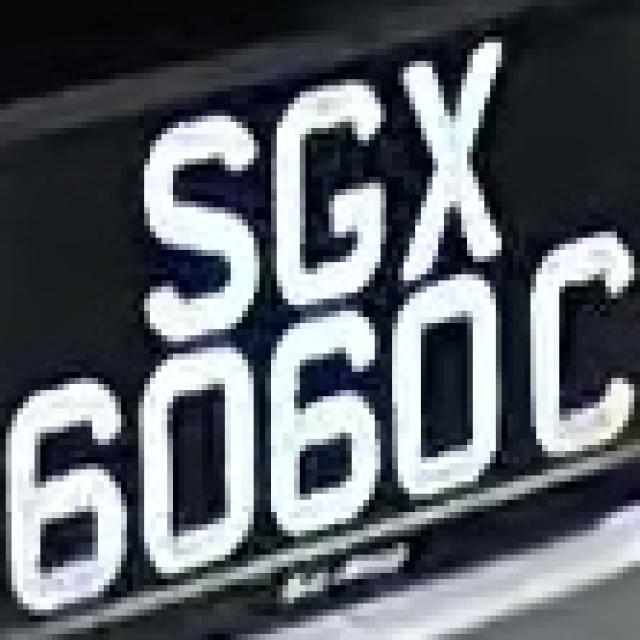0: (386, 274, 513, 542), (144, 336, 265, 598)
6: (254, 298, 392, 548), (12, 353, 132, 634)
C: (519, 207, 640, 482)
G: (260, 55, 392, 311)
S: (121, 85, 271, 354)
X: (386, 24, 513, 280)
